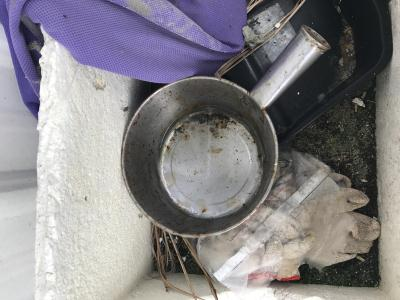bowl: (117, 73, 281, 242)
